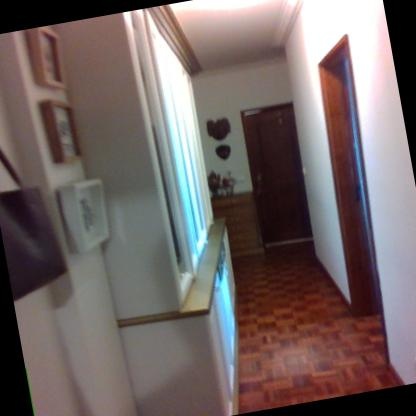closed: (232, 91, 327, 254)
